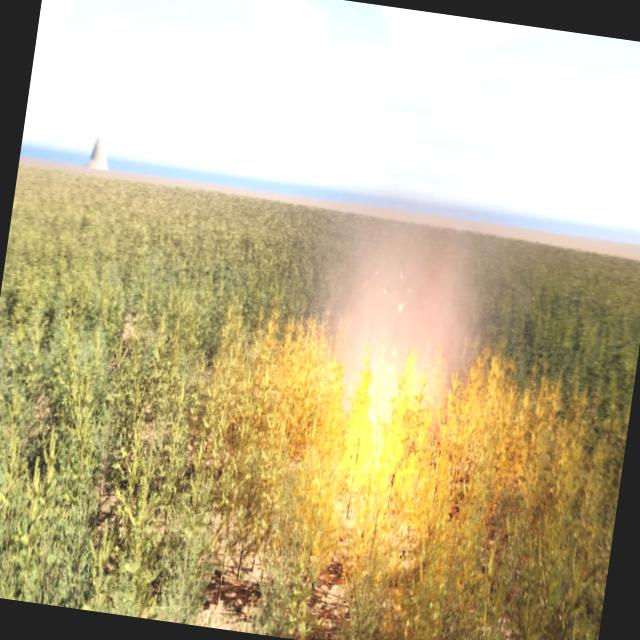fire: (308, 364, 551, 504)
smoke: (308, 203, 500, 449)
